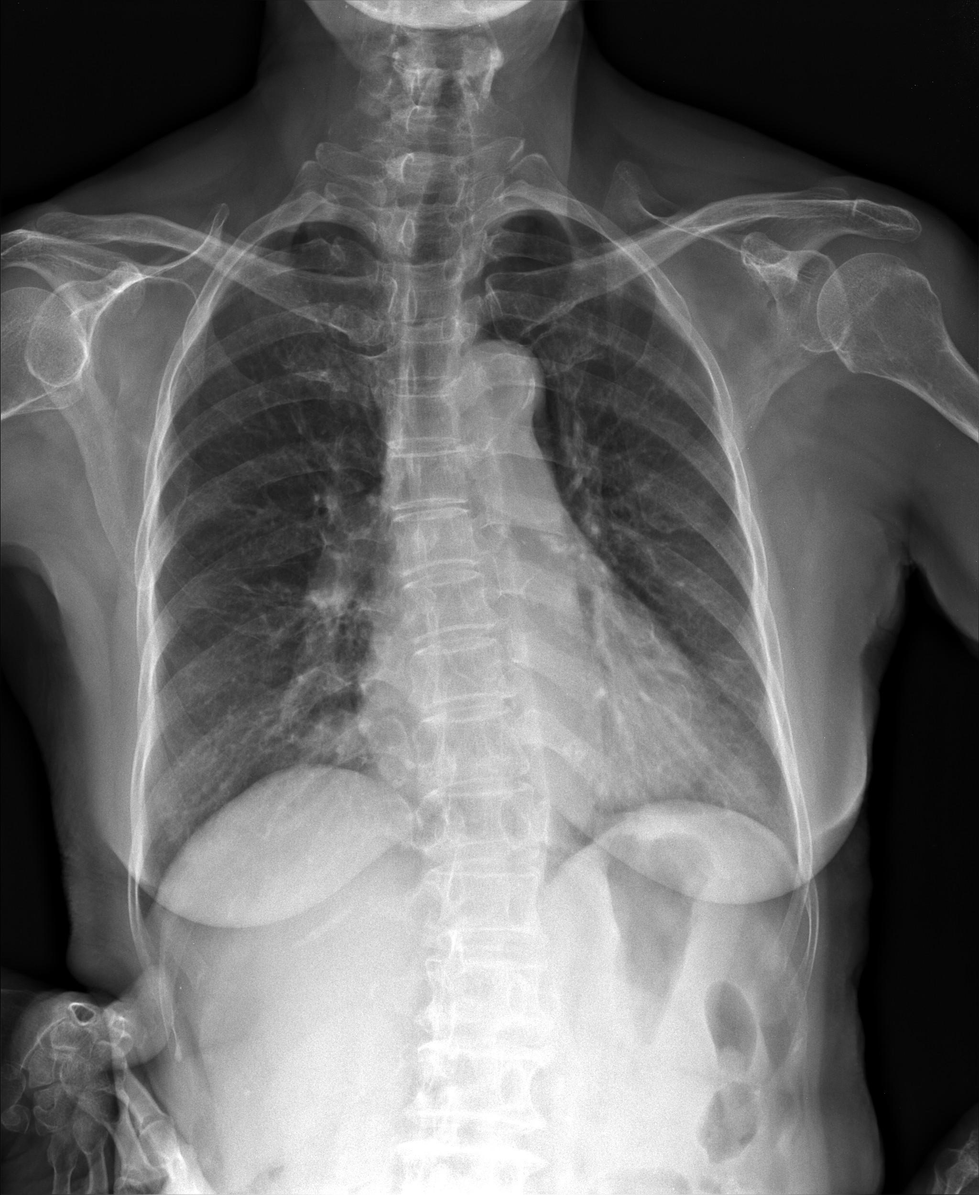Aortic enlargement: (434, 340, 550, 424)
Cardiomegaly: (353, 663, 722, 820)
